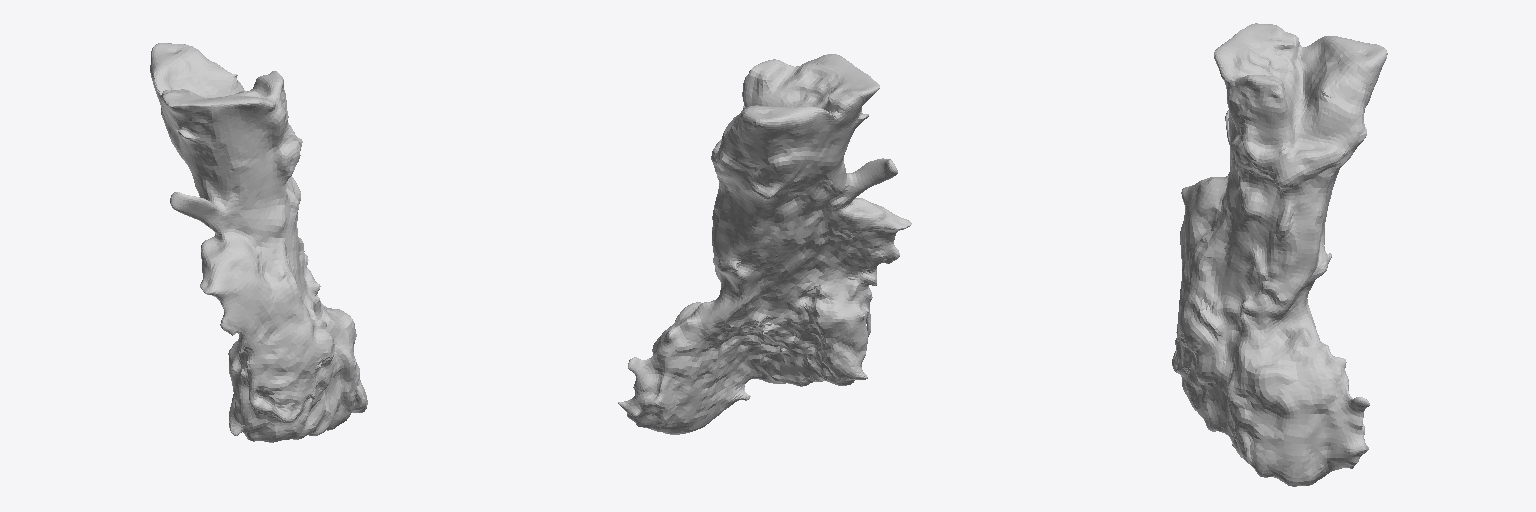
Rendered from 75843b60848f_moss_hanging_off_a_.obj.
3 views of the same model, side by side, from view 1: azimuth 30°, elevation 25°; view 2: azimuth 150°, elevation 25°; view 3: azimuth 270°, elevation 25° (orthographic).
Parts seen in each view (by area): view 1: mesh; view 2: mesh; view 3: mesh.
Boxes of the visible parts, x1=… form: mesh: x1=150, y1=43, x2=367, y2=442; mesh: x1=618, y1=54, x2=911, y2=434; mesh: x1=1172, y1=23, x2=1387, y2=486.
Size of the model in its own units: 0.5966 by 0.9988 by 0.519.